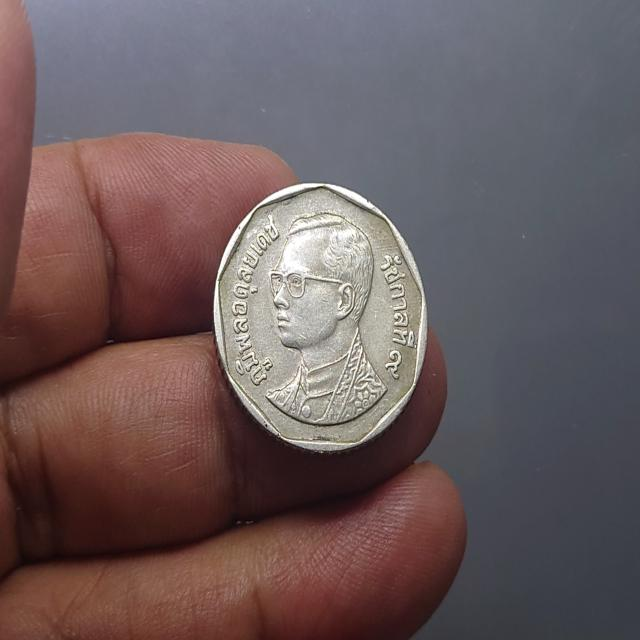5 Bath: (210, 178, 432, 465)
